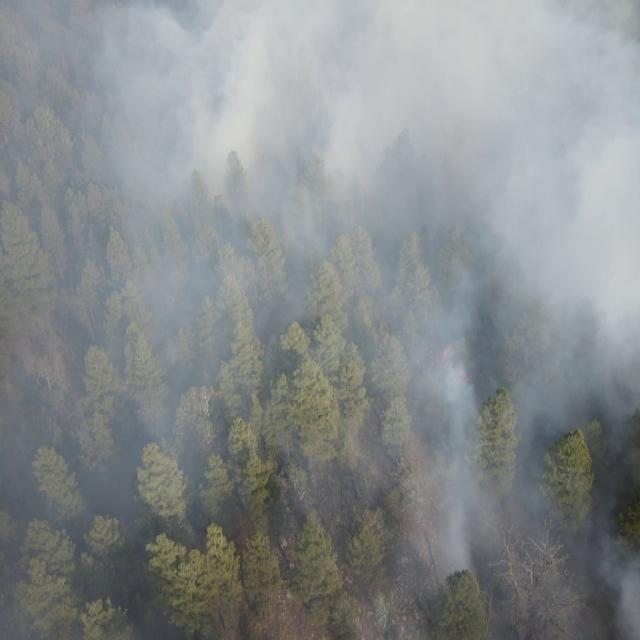fire: (428, 346, 450, 366), (458, 368, 472, 388)
smoke: (0, 0, 640, 640)
